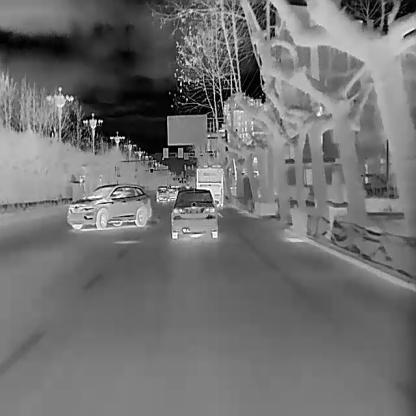car: (66, 183, 152, 230), (171, 188, 219, 238), (195, 163, 223, 207), (155, 185, 170, 202), (166, 186, 177, 200)
